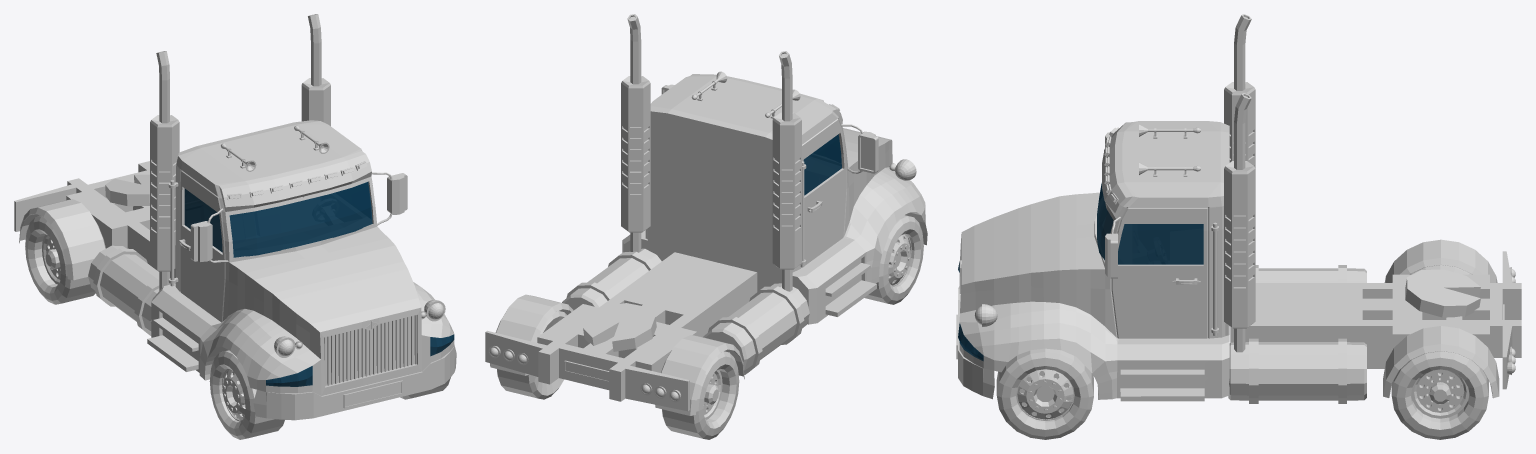
Rendered from truck_fixed_wheels.fbx.
3 views of the same model, side by side, from view 1: azimuth 30°, elevation 25°; view 2: azimuth 150°, elevation 25°; view 3: azimuth 270°, elevation 25° (orthographic). The views are drawn at different scales.
Parts seen in each view (by area): view 1: truck_fixed_wheels, truck_glass.002; view 2: truck_fixed_wheels, truck_glass.002; view 3: truck_fixed_wheels, truck_glass.002.
Part boxes in pixels (x1,y1,x2,y2): truck_fixed_wheels: (14, 14, 456, 439); truck_glass.002: (184, 182, 454, 386); truck_fixed_wheels: (485, 14, 927, 439); truck_glass.002: (803, 134, 841, 195); truck_fixed_wheels: (956, 14, 1521, 439); truck_glass.002: (958, 183, 1203, 361).
Bounding box in the file's own units: 474 × 644 × 989.
